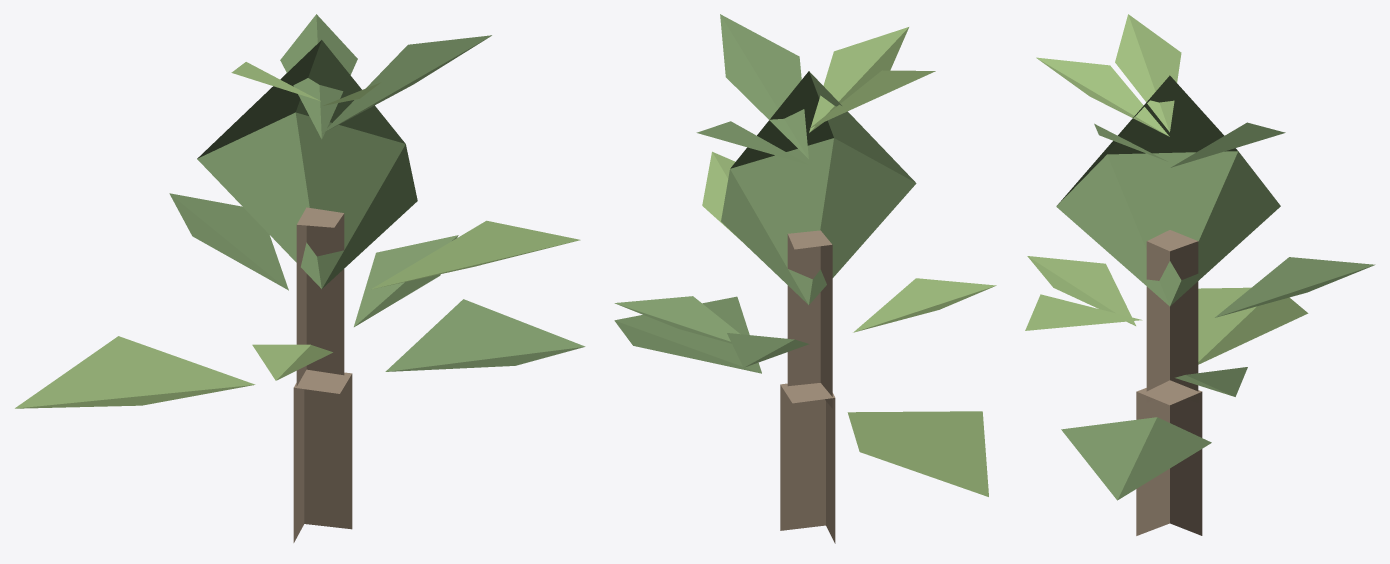
File: shui.luwei@seedling__bloom.glb
The picture shows the model from 3 angles, left to right: view 1: azimuth 30°, elevation 25°; view 2: azimuth 150°, elevation 25°; view 3: azimuth 270°, elevation 25°; orthographic projection. The views are drawn at different scales.
Parts seen in each view (by area): view 1: shui.luwei@seedling__bloom; view 2: shui.luwei@seedling__bloom; view 3: shui.luwei@seedling__bloom.
Boxes of the visible parts, <box> form: shui.luwei@seedling__bloom: <box>15,14,585,542</box>; shui.luwei@seedling__bloom: <box>614,14,996,543</box>; shui.luwei@seedling__bloom: <box>1025,14,1375,535</box>.
Bounding box in the file's own units: 0.2442 × 0.2443 × 0.1649.
